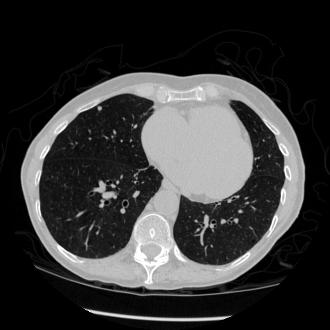nodule: (97, 106, 101, 110)
